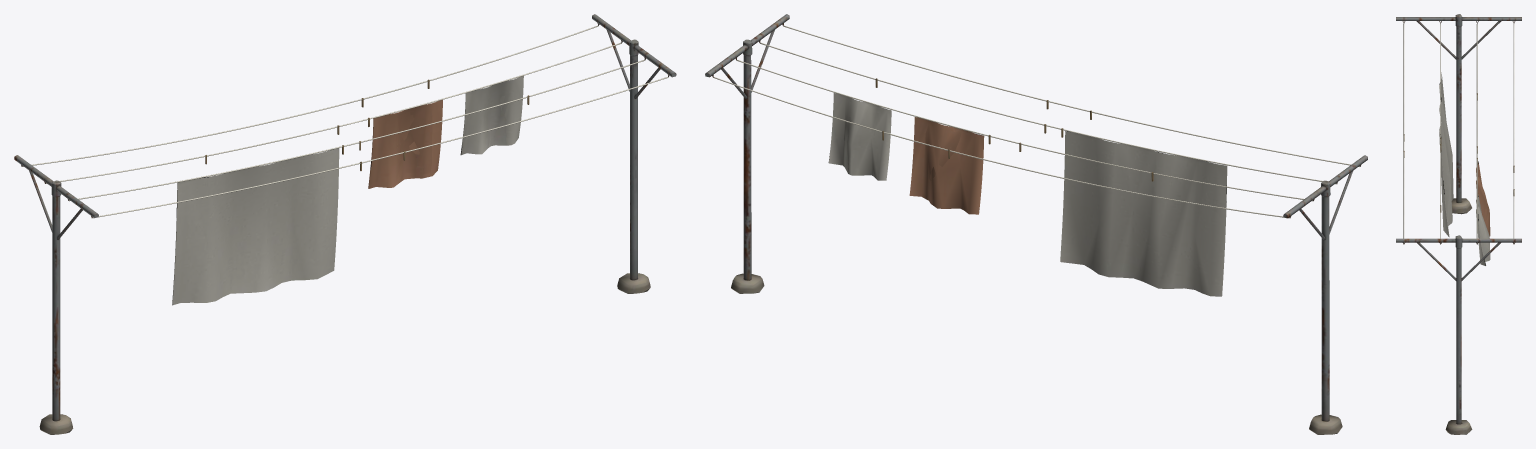
File: clothesline-low.glb
3 views of the same model, side by side, from view 1: azimuth 30°, elevation 25°; view 2: azimuth 150°, elevation 25°; view 3: azimuth 270°, elevation 25° (orthographic). The views are drawn at different scales.
Visible parts, largest first — view 1: clothesline; view 2: clothesline; view 3: clothesline.
Boxes of the visible parts, bbox=[...] form: clothesline: bbox=[14, 14, 676, 434]; clothesline: bbox=[705, 14, 1367, 434]; clothesline: bbox=[1396, 14, 1521, 434].
Size of the model in its own units: 5.25 by 2.04 by 1.2.
2 materials, 2 textured.
